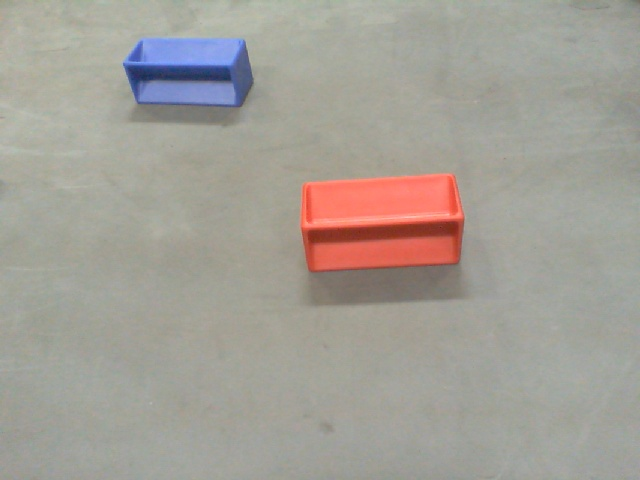BlueSample: (122, 37, 254, 109)
RedSample: (298, 169, 466, 279)
